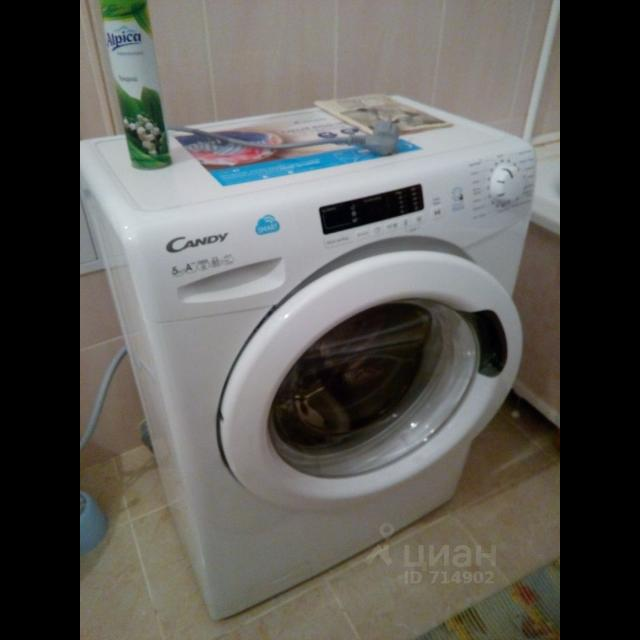Washing-Machine: (86, 106, 532, 612)
